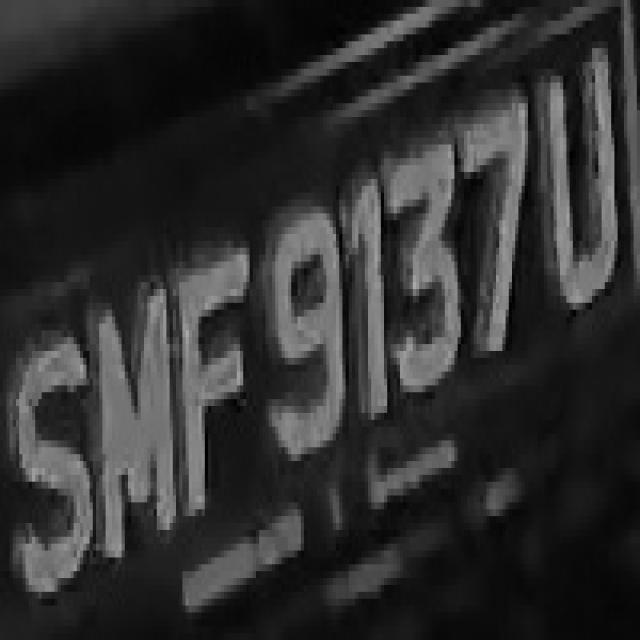1: (333, 172, 403, 454)
3: (387, 152, 467, 399)
7: (461, 103, 544, 372)
9: (262, 206, 349, 488)
F: (176, 234, 262, 523)
M: (90, 262, 182, 558)
S: (12, 330, 90, 612)
U: (538, 55, 624, 317)
